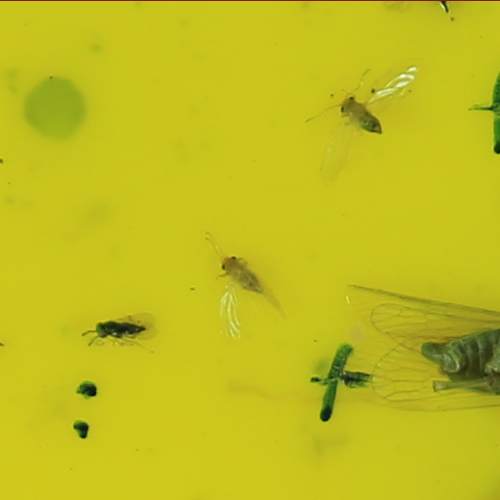Glycaspis: (335, 93, 385, 137), (220, 253, 264, 292)
Psyllaephagus: (93, 315, 149, 341)
